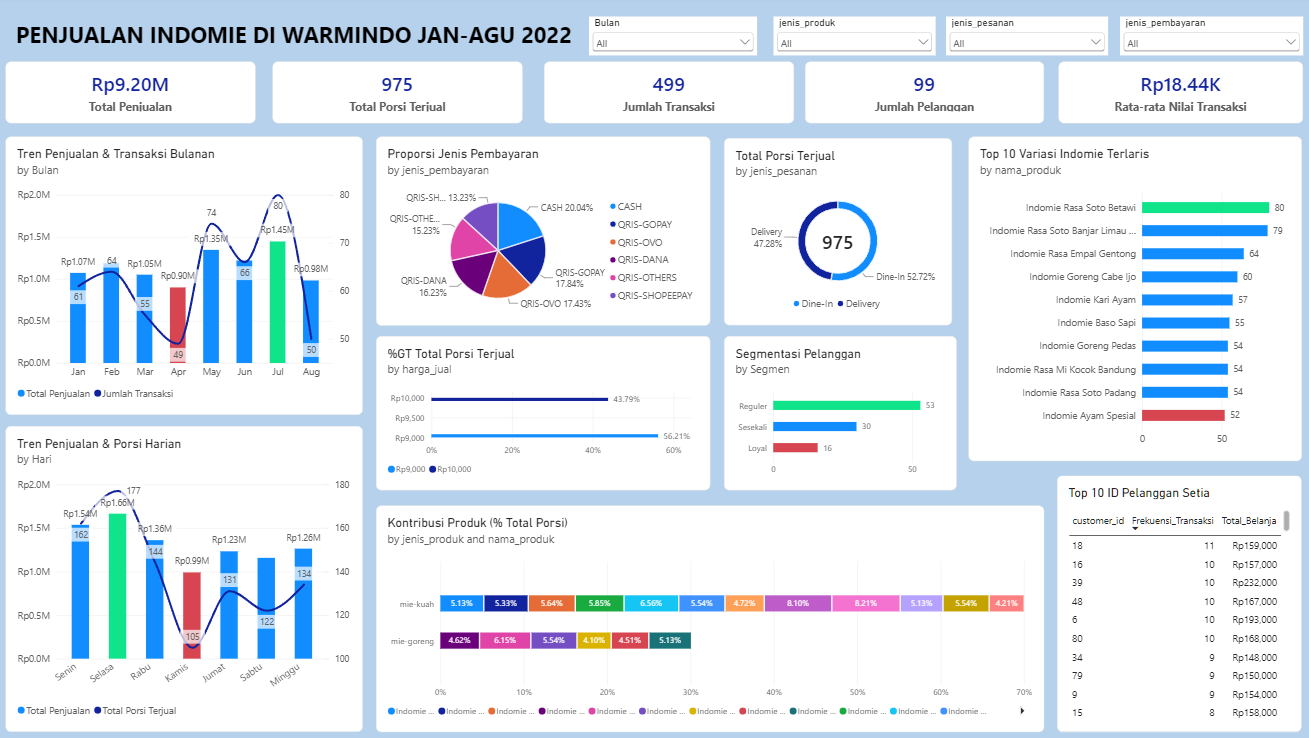

The page's visual inventory and layout, read from the dashboard file:
{"tool":"powerbi","page":{"name":"Page 1","canvas":[1920,1080],"ordinal":0},"visuals":[{"type":"textbox","box":[30.6,28.4,860,48.8],"z":0},{"type":"slicer","fields":{"Values":["Dim_Tanggal.Bulan"]},"box":[864.6,24,244.5,56.8],"z":1000},{"type":"slicer","fields":{"Values":["Fact_Penjualan.jenis_produk"]},"box":[1133.2,24,235.8,56.8],"z":2000},{"type":"slicer","fields":{"Values":["Fact_Penjualan.jenis_pesanan"]},"box":[1384.2,24,235.8,56.8],"z":3000},{"type":"slicer","fields":{"Values":["Fact_Penjualan.jenis_pembayaran"]},"box":[1637.5,24,266.4,56.8],"z":4000},{"type":"card","fields":{"Values":["_Measure.Total Penjualan"]},"box":[15.3,89.5,364,90],"z":5000},{"type":"card","fields":{"Values":["_Measure.Total Porsi Terjual"]},"box":[403.9,89.5,364,90],"z":6000},{"type":"card","fields":{"Values":["_Measure.Jumlah Transaksi"]},"box":[799.1,89.5,364,90],"z":7000},{"type":"card","fields":{"Values":["_Measure.Jumlah Pelanggan"]},"box":[1179,89.5,348,90],"z":8000},{"type":"card","fields":{"Values":["_Measure.Rata-rata Nilai Transaksi"]},"box":[1548,89.5,356,90],"z":9000},{"type":"lineStackedColumnComboChart","title":"Tren Penjualan & Transaksi Bulanan","fields":{"Category":["Dim_Tanggal.Bulan"],"Y":["_Measure.Total Penjualan"],"Y2":["_Measure.Jumlah Transaksi"]},"box":[15.3,198.7,520,405],"z":10000},{"type":"clusteredBarChart","title":"Segmentasi Pelanggan","fields":{"Category":["Dim_Pelanggan.Segmen"],"Y":["_Measure.Jumlah Pelanggan"]},"box":[1061.1,489.1,338.4,224.9],"z":11000},{"type":"donutChart","fields":{"Category":["Fact_Penjualan.jenis_pesanan"],"Y":["_Measure.Total Porsi Terjual"]},"box":[1061.1,200.9,331.9,272.9],"z":12000},{"type":"lineStackedColumnComboChart","title":"Tren Penjualan & Porsi Harian","fields":{"Category":["Dim_Tanggal.Hari"],"Y":["_Measure.Total Penjualan"],"Y2":["_Measure.Total Porsi Terjual"]},"box":[15.3,620.1,520,445],"z":13000},{"type":"clusteredBarChart","title":"Top 10 Variasi Indomie Terlaris","fields":{"Category":["Fact_Penjualan.nama_produk"],"Y":["_Measure.Total Porsi Terjual"]},"box":[1417,198.7,485,472.5],"z":14000},{"type":"barChart","title":"Kontribusi Produk (% Total Porsi)","fields":{"Category":["Fact_Penjualan.jenis_produk"],"Series":["Fact_Penjualan.nama_produk"],"Y":["_Measure.Total Porsi Terjual"]},"box":[554.6,735.8,972.5,330],"z":15000},{"type":"pieChart","title":"Proporsi Jenis Pembayaran","fields":{"Category":["Fact_Penjualan.jenis_pembayaran"],"Y":["_Measure.Jumlah Transaksi"]},"box":[554.6,198.7,486.9,275.1],"z":16000},{"type":"tableEx","title":"Top 10 ID Pelanggan Setia","fields":{"Values":["Dim_Pelanggan.customer_id","Dim_Pelanggan.Frekuensi_Transaksi","Dim_Pelanggan.Total_Belanja"]},"box":[1545.8,692.1,355.9,373.4],"z":17000},{"type":"clusteredBarChart","title":"%GT Total Porsi Terjual","fields":{"Category":["Fact_Penjualan.harga_jual"],"Series":["Fact_Penjualan.harga_jual"],"Y":["_Measure.Total Porsi Terjual"]},"box":[554.6,489.1,486.9,224.9],"z":18000}]}

Visuals, with their boxes in screenshot pixels (x1, y1, x2, y2), scaled from the page's 1920x1080 canvas onto the 1309x738 screenshot:
textbox: (21, 19, 607, 53)
slicer - Dim_Tanggal.Bulan: (589, 16, 756, 55)
slicer - Fact_Penjualan.jenis_produk: (773, 16, 933, 55)
slicer - Fact_Penjualan.jenis_pesanan: (944, 16, 1104, 55)
slicer - Fact_Penjualan.jenis_pembayaran: (1116, 16, 1298, 55)
card - _Measure.Total Penjualan: (10, 61, 259, 123)
card - _Measure.Total Porsi Terjual: (275, 61, 524, 123)
card - _Measure.Jumlah Transaksi: (545, 61, 793, 123)
card - _Measure.Jumlah Pelanggan: (804, 61, 1041, 123)
card - _Measure.Rata-rata Nilai Transaksi: (1055, 61, 1298, 123)
"Tren Penjualan & Transaksi Bulanan" lineStackedColumnComboChart: (10, 136, 365, 413)
"Segmentasi Pelanggan" clusteredBarChart: (723, 334, 954, 488)
donutChart - Fact_Penjualan.jenis_pesanan x _Measure.Total Porsi Terjual: (723, 137, 950, 324)
"Tren Penjualan & Porsi Harian" lineStackedColumnComboChart: (10, 424, 365, 728)
"Top 10 Variasi Indomie Terlaris" clusteredBarChart: (966, 136, 1297, 459)
"Kontribusi Produk (% Total Porsi)" barChart: (378, 503, 1041, 728)
"Proporsi Jenis Pembayaran" pieChart: (378, 136, 710, 324)
"Top 10 ID Pelanggan Setia" tableEx: (1054, 473, 1297, 728)
"%GT Total Porsi Terjual" clusteredBarChart: (378, 334, 710, 488)
